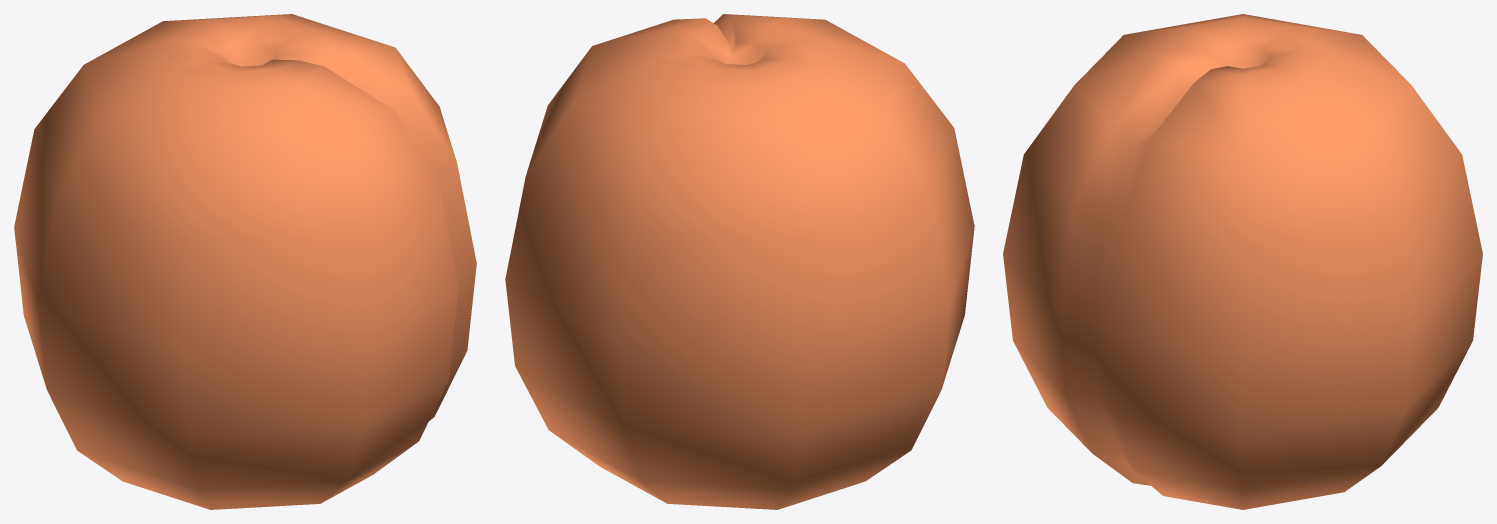
Rendered from peach.glb.
The picture shows the model from 3 angles, left to right: view 1: azimuth 30°, elevation 25°; view 2: azimuth 150°, elevation 25°; view 3: azimuth 270°, elevation 25°; orthographic projection.
Visible parts, largest first — view 1: peach; view 2: peach; view 3: peach.
Boxes of the visible parts, <box> form: peach: <box>14,14,476,509</box>; peach: <box>505,14,974,509</box>; peach: <box>1003,14,1482,509</box>.
Bounding box in the file's own units: 0.1285 × 0.1249 × 0.1285.
